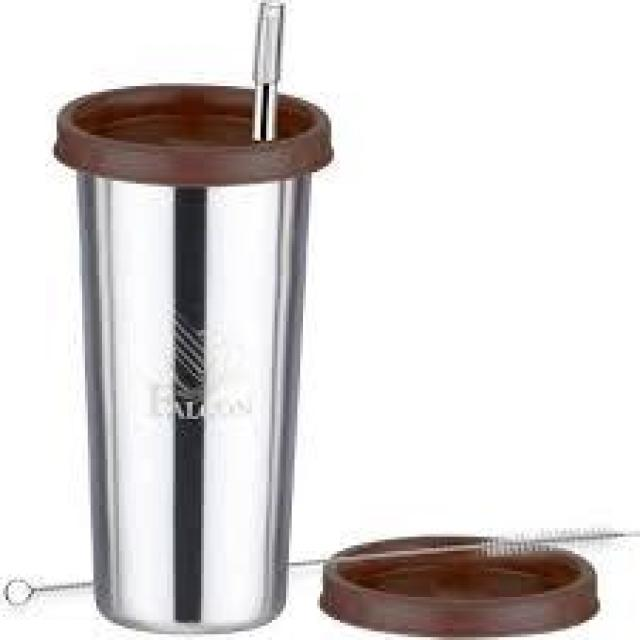bottle: (48, 0, 343, 640)
